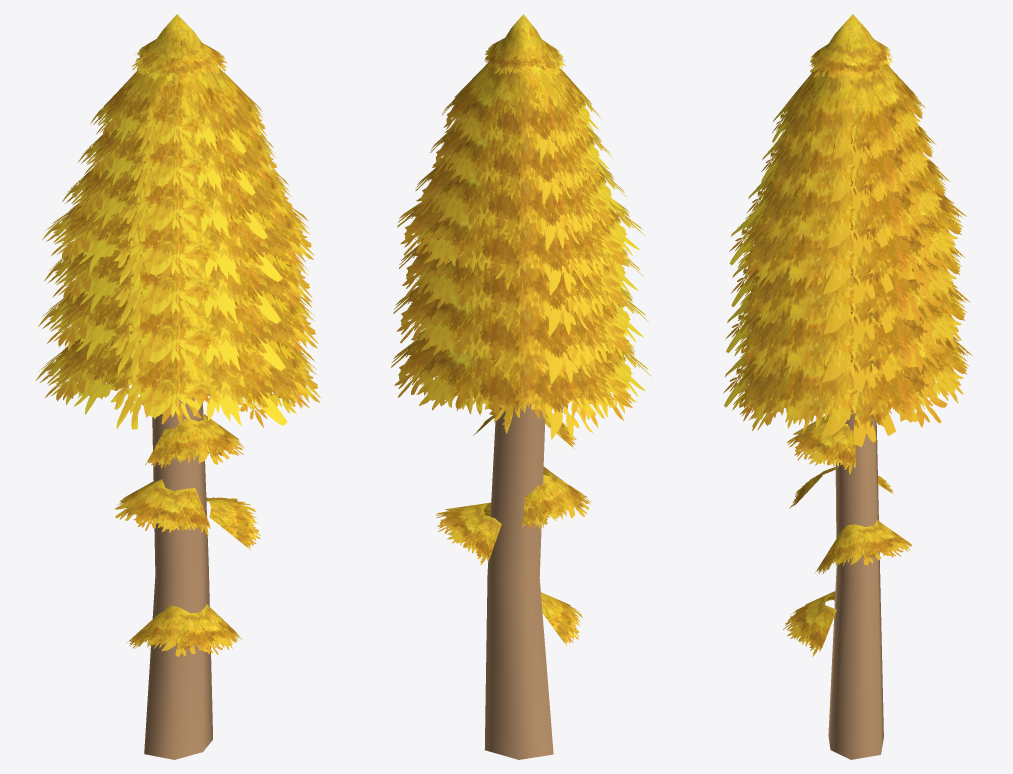
File: Envi_Tree02.FBX
3 views of the same model, side by side, from view 1: azimuth 30°, elevation 25°; view 2: azimuth 150°, elevation 25°; view 3: azimuth 270°, elevation 25° (orthographic).
Parts seen in each view (by area): view 1: Envi_Tree025; view 2: Envi_Tree025; view 3: Envi_Tree025.
Part boxes in pixels (box(x1,y1,x2,y2)): Envi_Tree025: box(36, 14, 320, 759); Envi_Tree025: box(391, 14, 651, 759); Envi_Tree025: box(723, 14, 972, 759).
Size of the model in its own units: 422 by 1058 by 388.
